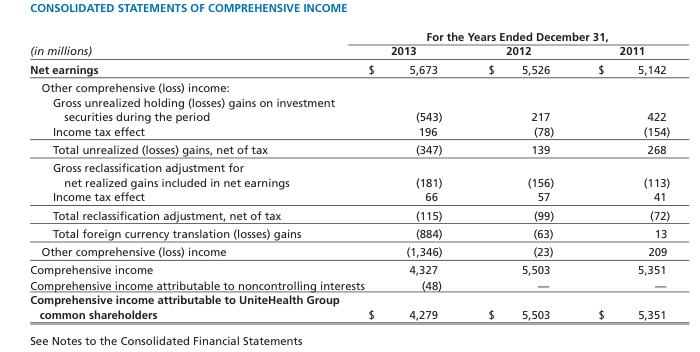table: (29, 29, 669, 320)
table column: (29, 29, 365, 320), (464, 29, 575, 320), (365, 29, 464, 320), (575, 29, 669, 320)
table column header: (29, 29, 669, 59)
table projected row header: (29, 77, 669, 94)
table row: (29, 158, 669, 189), (29, 94, 669, 123), (29, 292, 669, 320), (29, 139, 669, 158), (29, 223, 669, 242), (29, 59, 669, 77), (29, 205, 669, 223), (29, 242, 669, 260), (29, 77, 669, 94), (29, 260, 669, 277), (29, 43, 669, 59), (29, 123, 669, 139), (29, 189, 669, 205), (29, 277, 669, 292), (29, 29, 669, 43)
table spanning cell: (29, 29, 365, 59), (365, 29, 669, 43)
